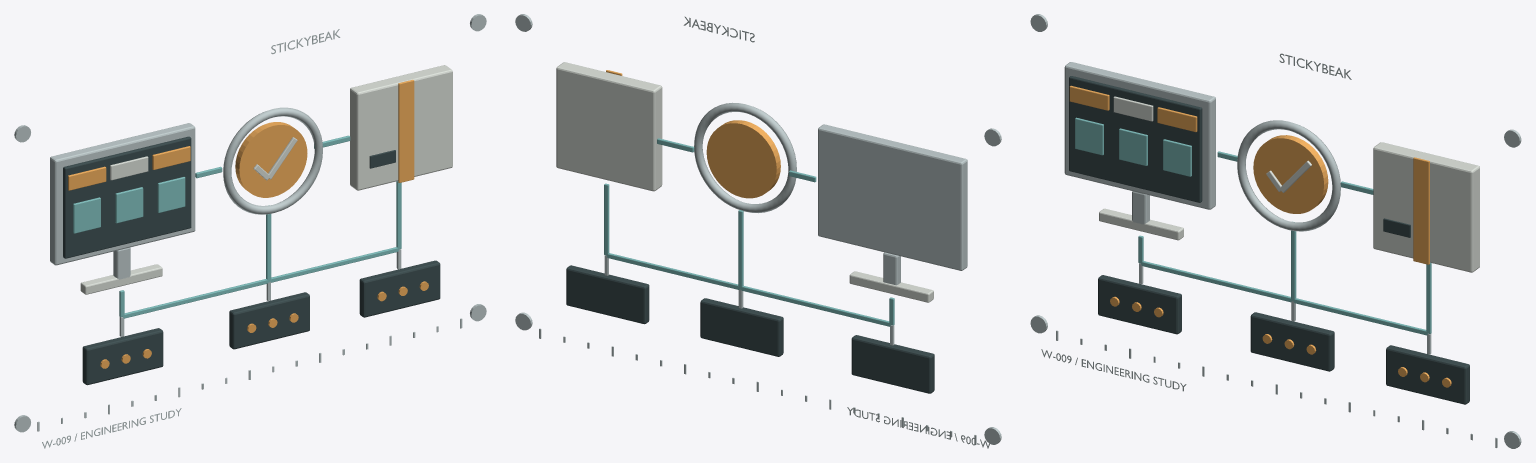
The model's file is stickybeak.glb.
3 renders of one model, left to right at view 1: azimuth 30°, elevation 25°; view 2: azimuth 150°, elevation 25°; view 3: azimuth 330°, elevation 25°, orthographic. The views are drawn at different scales.
Parts seen in each view (by area): view 1: optical-core__Project_Graphite, optical-core__Project_Ceramic, optical-core__Project_Amber, optical-lenses__Project_Silver, optical-core__Project_Silver, optical-lenses__Project_Trace, optical-core__Project_Trace; view 2: optical-core__Project_Silver, optical-core__Project_Ceramic, optical-core__Project_Graphite, optical-lenses__Project_Silver, optical-core__Project_Amber, optical-lenses__Project_Trace; view 3: optical-core__Project_Graphite, optical-core__Project_Ceramic, optical-core__Project_Amber, optical-lenses__Project_Silver, optical-core__Project_Silver, optical-lenses__Project_Trace, optical-core__Project_Trace.
Part boxes in pixels (x1,y1,x2,y2): optical-core__Project_Graphite: [63, 136, 440, 385]; optical-core__Project_Ceramic: [80, 65, 452, 294]; optical-core__Project_Amber: [68, 79, 428, 368]; optical-lenses__Project_Silver: [14, 14, 486, 448]; optical-core__Project_Silver: [50, 123, 195, 279]; optical-lenses__Project_Trace: [119, 135, 401, 318]; optical-core__Project_Trace: [73, 177, 185, 233]; optical-core__Project_Silver: [818, 124, 967, 285]; optical-core__Project_Ceramic: [556, 62, 933, 302]; optical-core__Project_Graphite: [566, 265, 934, 393]; optical-lenses__Project_Silver: [515, 14, 1001, 448]; optical-core__Project_Amber: [606, 70, 780, 198]; optical-lenses__Project_Trace: [604, 138, 894, 326]; optical-core__Project_Graphite: [1069, 76, 1469, 404]; optical-core__Project_Ceramic: [1099, 96, 1479, 272]; optical-core__Project_Amber: [1069, 85, 1451, 387]; optical-lenses__Project_Silver: [1030, 14, 1521, 448]; optical-core__Project_Silver: [1064, 62, 1215, 224]; optical-lenses__Project_Trace: [1138, 151, 1431, 335]; optical-core__Project_Trace: [1075, 117, 1191, 176].
Size of the model in its own units: 4.01 by 2.83 by 0.1637.
